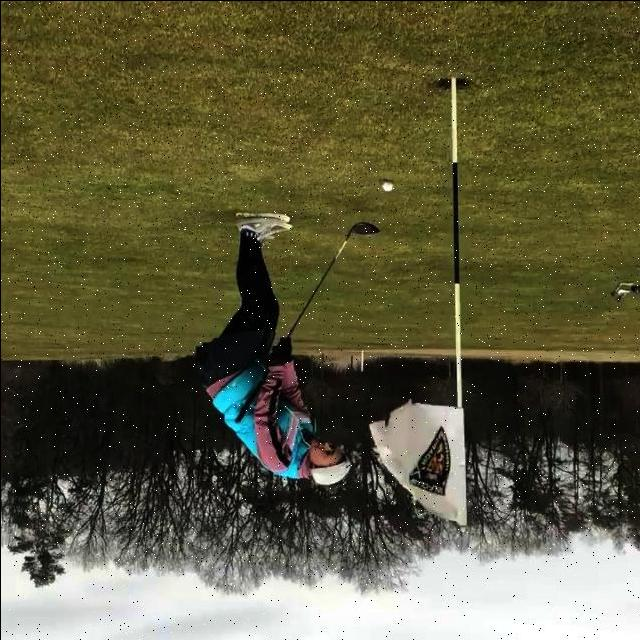golf ball: (382, 179, 393, 190)
golf club-handle: (234, 222, 378, 423)
golf club-head: (352, 221, 377, 234)
